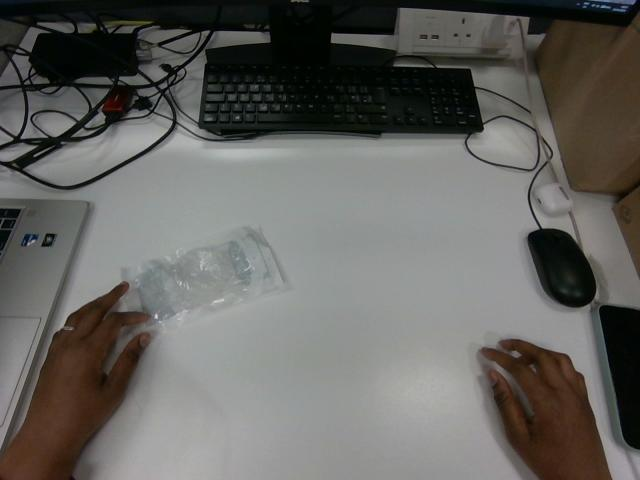gallipot: (123, 227, 282, 327)
